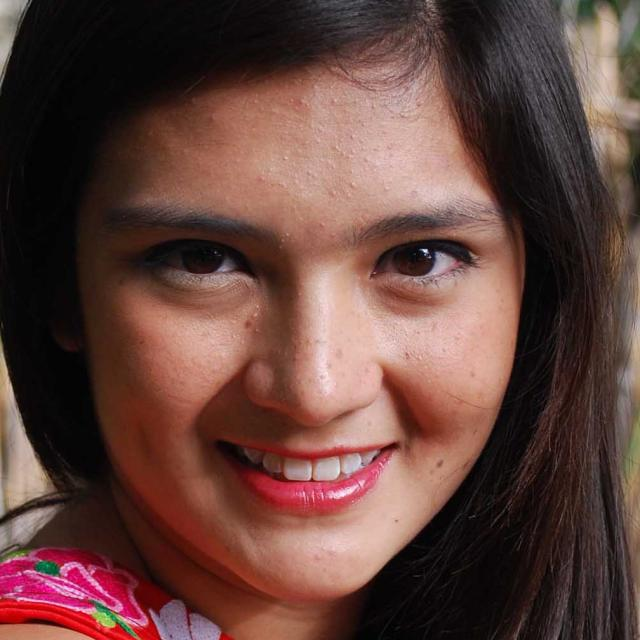Normal: (78, 46, 529, 598)
